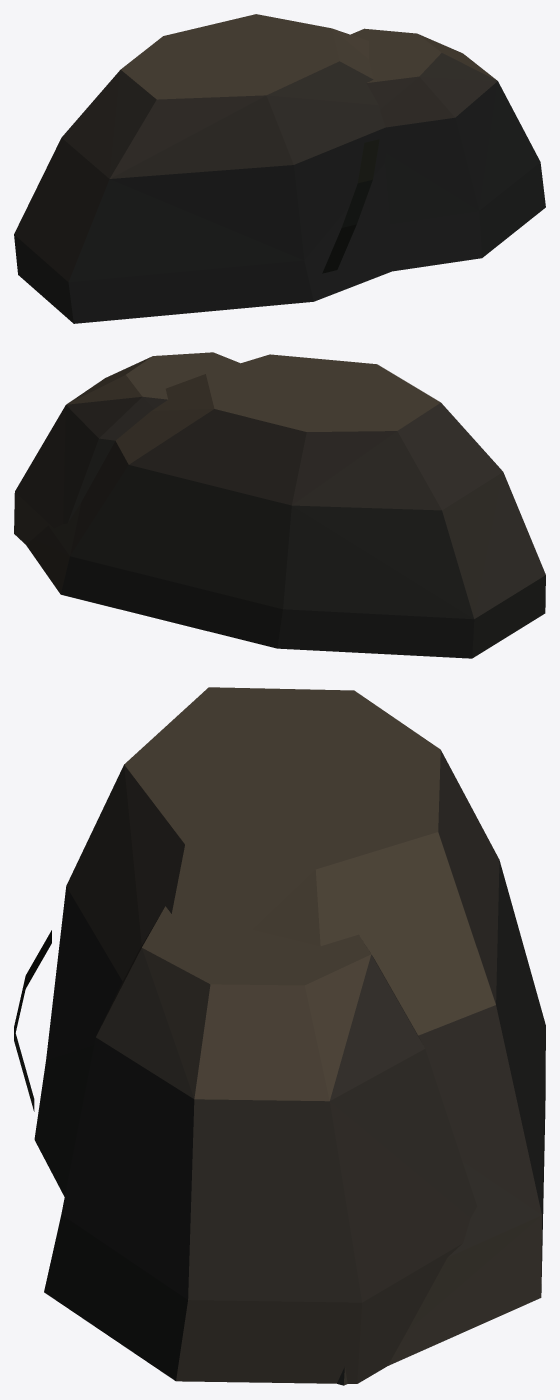
Rendered from verdant-cliff-toe.glb.
3 views of the same model, one above another, from view 1: azimuth 30°, elevation 25°; view 2: azimuth 150°, elevation 25°; view 3: azimuth 270°, elevation 25° (orthographic). The views are drawn at different scales.
Visible parts, largest first — view 1: verdant-cliff-toe; view 2: verdant-cliff-toe; view 3: verdant-cliff-toe.
Boxes of the visible parts, x1,y1,x2,y2 form: verdant-cliff-toe: (14, 14, 545, 323); verdant-cliff-toe: (14, 352, 545, 658); verdant-cliff-toe: (14, 687, 545, 1385).
Size of the model in its own units: 3.48 by 1.34 by 1.82.
Materials: 1 (1 with a texture image).
